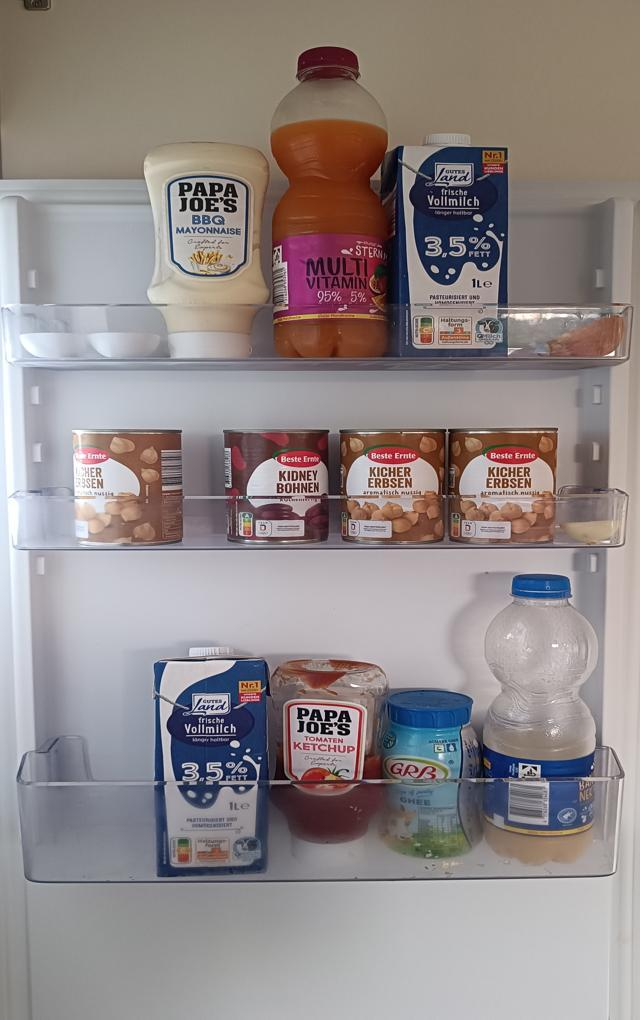bananajuice: (481, 571, 606, 869)
chickpeas: (71, 428, 182, 546), (340, 430, 444, 548), (452, 430, 556, 547)
ghee: (380, 689, 484, 861)
kidneybeans: (223, 427, 328, 546)
mayoniasie: (145, 141, 270, 359)
milk: (384, 131, 508, 359), (155, 646, 271, 876)
orangejuice: (270, 45, 390, 360)
tomatoketchup: (271, 659, 388, 855)
